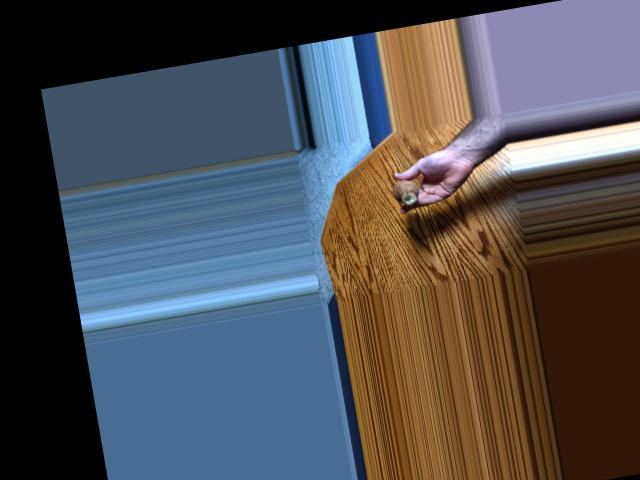sweet_potato: (389, 177, 420, 206)
